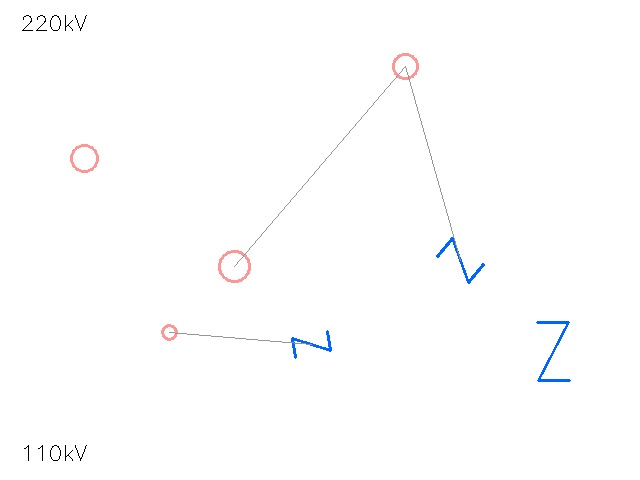circuit_breaker: (521, 319, 585, 383), (437, 237, 483, 283), (291, 324, 331, 364)
feeder_terminal: (380, 41, 430, 91)
fuse: (154, 317, 184, 347)
load_break_switch: (203, 235, 265, 297), (58, 132, 110, 184)
